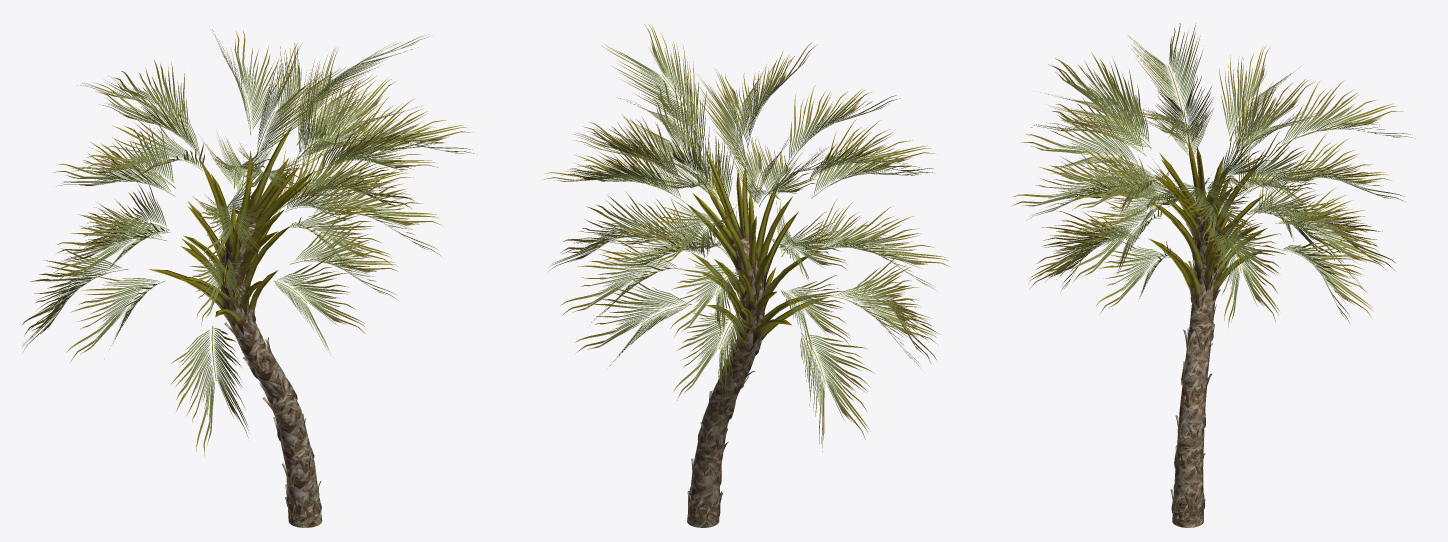
File: Palmfifty.obj
3 views of the same model, side by side, from view 1: azimuth 30°, elevation 25°; view 2: azimuth 150°, elevation 25°; view 3: azimuth 270°, elevation 25° (orthographic). The views are drawn at different scales.
Parts seen in each view (by area): view 1: curly palm leaf, frond stem, palm07, barkpalm; view 2: curly palm leaf, frond stem, palm07, barkpalm; view 3: curly palm leaf, frond stem, palm07, barkpalm.
Part boxes in pixels (box(x1,y1,x2,y2)): curly palm leaf: box(22, 29, 474, 456); frond stem: box(149, 125, 314, 334); palm07: box(223, 218, 322, 527); barkpalm: box(216, 234, 321, 520); curly palm leaf: box(543, 24, 950, 451); frond stem: box(686, 150, 829, 344); palm07: box(687, 237, 763, 527); barkpalm: box(687, 267, 769, 522); curly palm leaf: box(1011, 23, 1412, 327); frond stem: box(1148, 138, 1267, 305); palm07: box(1172, 201, 1216, 527); barkpalm: box(1170, 216, 1221, 519).
Bounding box in the file's own units: 230 × 262 × 227.
Materials: 4 (4 with a texture image).
